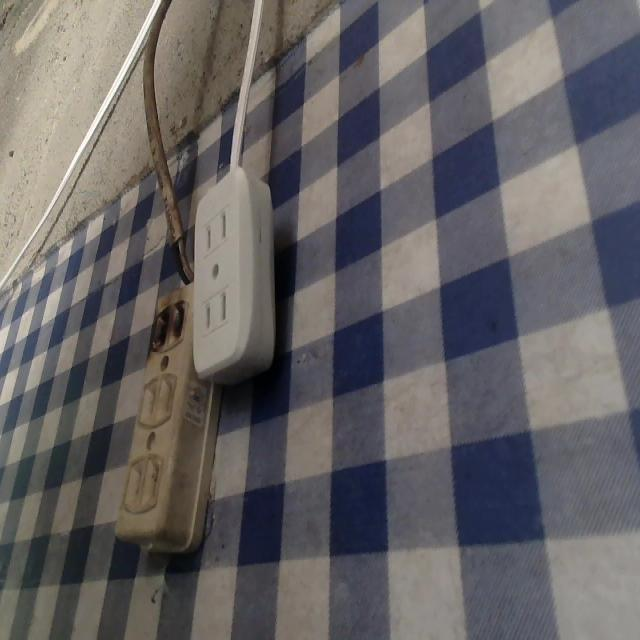-: (144, 282, 204, 354)
